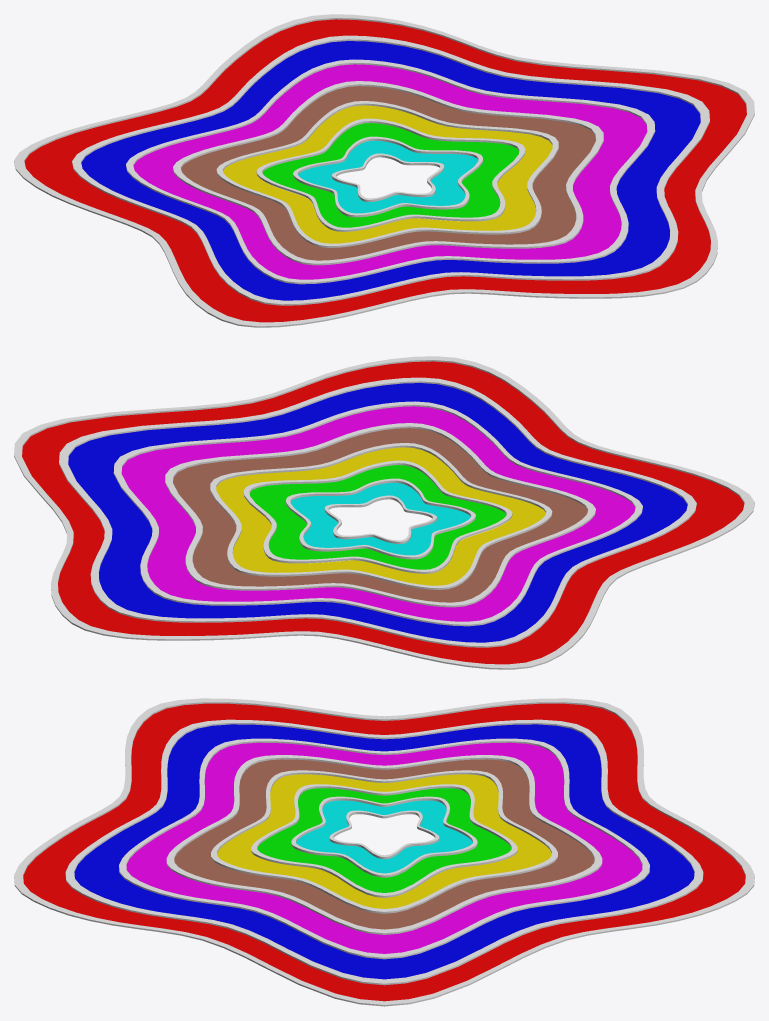
The model's file is san_3.fbx.
3 views of the same model, one above another, from view 1: azimuth 30°, elevation 25°; view 2: azimuth 150°, elevation 25°; view 3: azimuth 270°, elevation 25° (orthographic).
Parts seen in each view (by area): view 1: polySurface1554, polySurface1553, polySurface1549, polySurface1552, polySurface1551, polySurface1550, polySurface1555; view 2: polySurface1554, polySurface1553, polySurface1549, polySurface1552, polySurface1551, polySurface1550, polySurface1555; view 3: polySurface1554, polySurface1553, polySurface1549, polySurface1552, polySurface1551, polySurface1550, polySurface1555.
Boxes of the visible parts, bbox=[...] form: polySurface1554: bbox=[14, 14, 754, 327]; polySurface1553: bbox=[72, 35, 709, 305]; polySurface1549: bbox=[126, 59, 655, 284]; polySurface1552: bbox=[173, 81, 603, 265]; polySurface1551: bbox=[216, 101, 558, 247]; polySurface1550: bbox=[256, 118, 525, 231]; polySurface1555: bbox=[293, 136, 482, 217]; polySurface1554: bbox=[14, 356, 754, 669]; polySurface1553: bbox=[59, 377, 696, 647]; polySurface1549: bbox=[113, 401, 642, 626]; polySurface1552: bbox=[165, 423, 595, 607]; polySurface1551: bbox=[210, 443, 552, 589]; polySurface1550: bbox=[243, 460, 512, 573]; polySurface1555: bbox=[286, 478, 475, 559]; polySurface1554: bbox=[14, 698, 754, 1006]; polySurface1553: bbox=[65, 719, 703, 985]; polySurface1549: bbox=[119, 738, 649, 959]; polySurface1552: bbox=[166, 755, 602, 934]; polySurface1551: bbox=[211, 770, 557, 913]; polySurface1550: bbox=[251, 784, 517, 897]; polySurface1555: bbox=[291, 796, 477, 877].
Bounding box in the file's own units: 135 × 0.4824 × 138.
